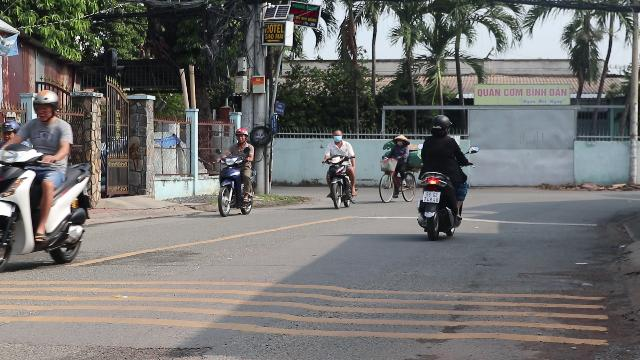helmet: (31, 90, 59, 122), (428, 114, 449, 134), (234, 127, 248, 143)
licenseplate: (424, 192, 441, 202)
motorcyclist: (0, 88, 96, 276), (414, 114, 470, 238), (214, 127, 258, 218)
